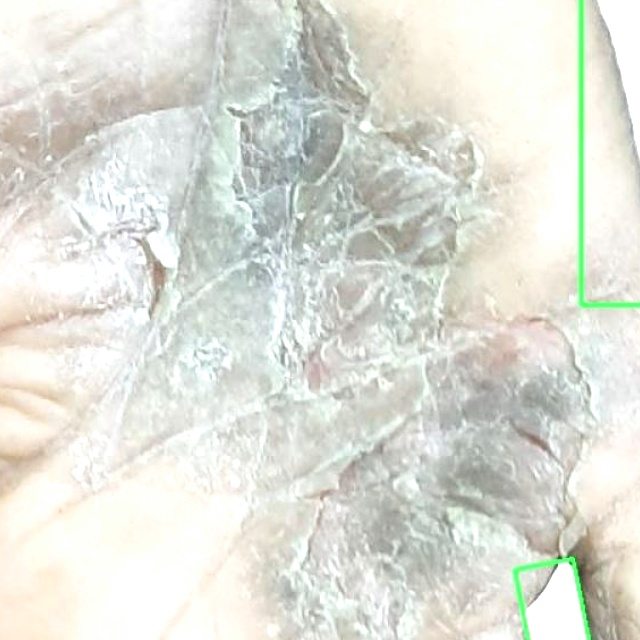Contact Dermatitis: (514, 558, 589, 639)
